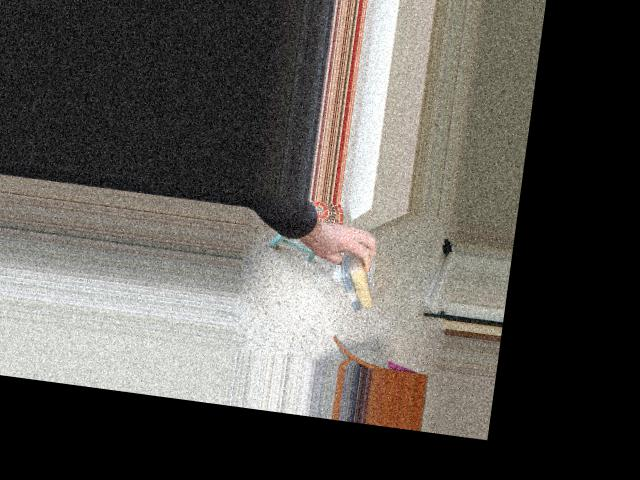cheese: (331, 226, 382, 318)
